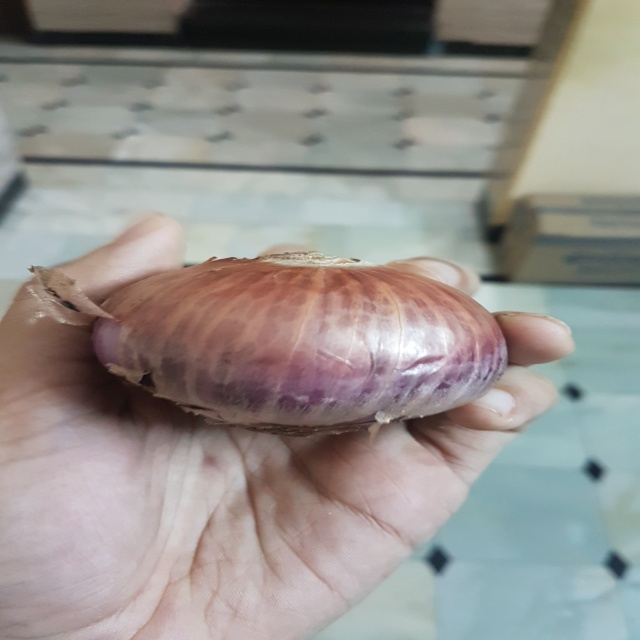onion: (77, 243, 527, 450)
